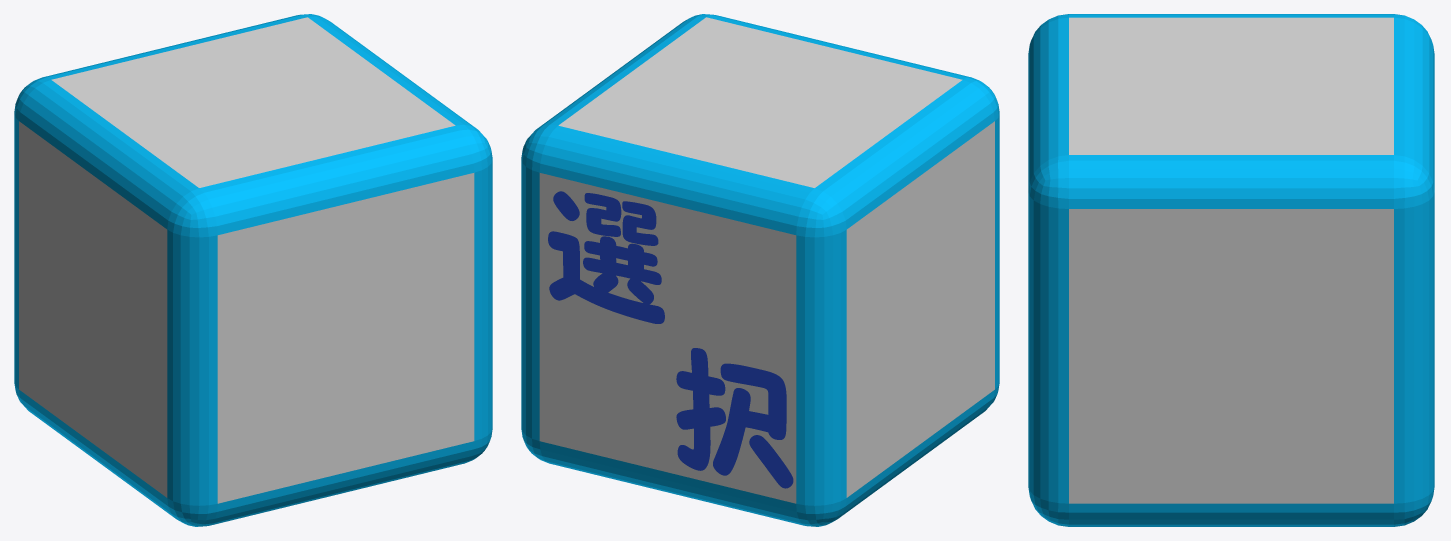
File: elective.fbx
3 renders of one model, left to right at view 1: azimuth 30°, elevation 25°; view 2: azimuth 150°, elevation 25°; view 3: azimuth 270°, elevation 25°, orthographic. The views are drawn at different scales.
Visible parts, largest first — view 1: Cube; view 2: Cube, テキスト; view 3: Cube.
Part boxes in pixels (<box>): Cube: <box>14,14,492,526</box>; Cube: <box>521,14,999,526</box>; テキスト: <box>548,191,793,488</box>; Cube: <box>1028,14,1434,526</box>.
Size of the model in its own units: 200 by 200 by 201.
